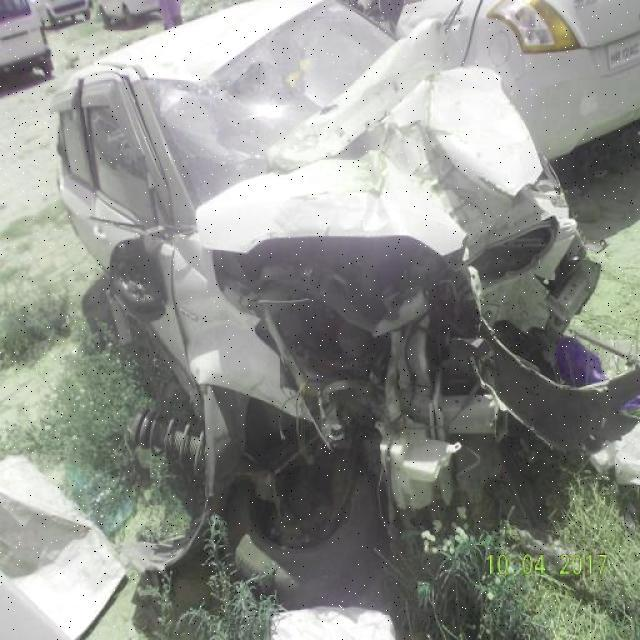car damage: (180, 23, 590, 482), (132, 19, 305, 163)
